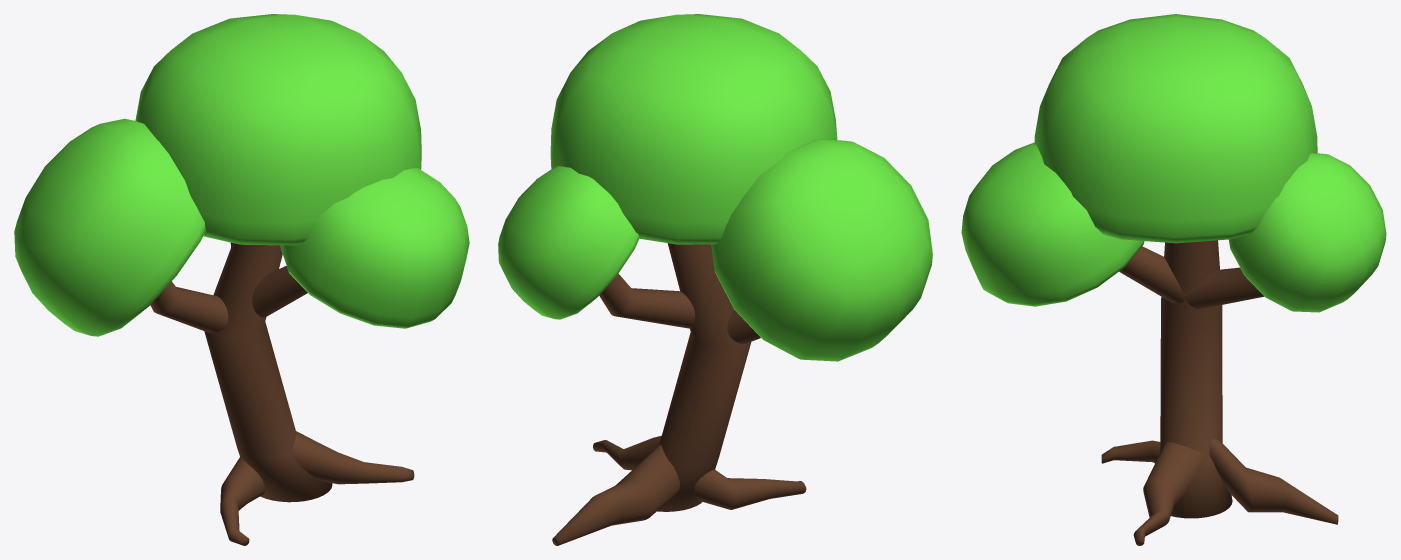
Rendered from tree1.glb.
3 renders of one model, left to right at view 1: azimuth 30°, elevation 25°; view 2: azimuth 150°, elevation 25°; view 3: azimuth 270°, elevation 25°, orthographic.
Parts seen in each view (by area): view 1: tree1; view 2: tree1; view 3: tree1.
Part boxes in pixels (left/top/right/bottom): tree1: left=14, top=14, right=469, bottom=545; tree1: left=498, top=14, right=932, bottom=545; tree1: left=961, top=14, right=1386, bottom=545.
Size of the model in its own units: 4.16 by 5.17 by 4.31.
